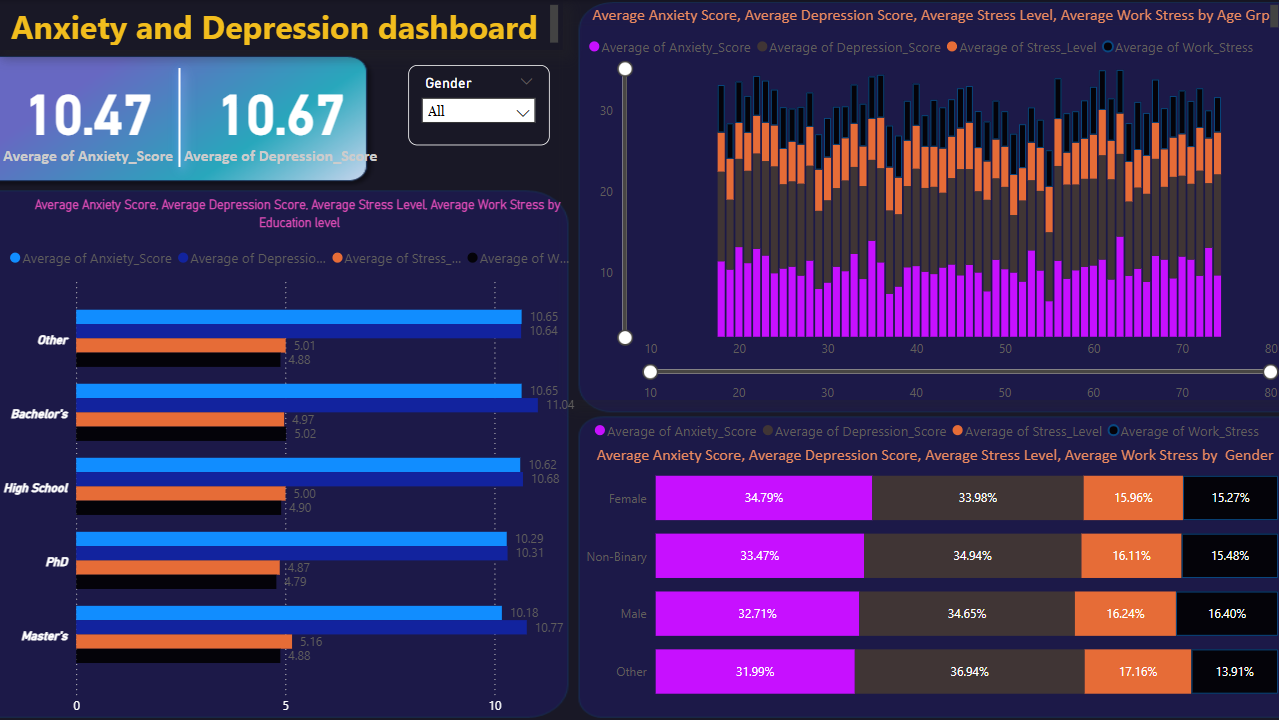

What the dashboard file says about the page in this screenshot:
{"tool":"powerbi","page":{"name":"Page 1","canvas":[1280,720],"ordinal":0},"visuals":[{"type":"lineStackedColumnComboChart","fields":{"Y":["Avg(anxiety_depression_data.Anxiety_Score)","Avg(anxiety_depression_data.Depression_Score)","Avg(anxiety_depression_data.Stress_Level)","Avg(anxiety_depression_data.Work_Stress)"],"Category":["anxiety_depression_data.Age"]},"box":[563.5,26.1,716.5,371.9],"z":0},{"type":"hundredPercentStackedBarChart","fields":{"Category":["anxiety_depression_data.Gender"],"Y":["Avg(anxiety_depression_data.Anxiety_Score)","Avg(anxiety_depression_data.Depression_Score)","Avg(anxiety_depression_data.Stress_Level)","Avg(anxiety_depression_data.Work_Stress)"]},"box":[574.7,408,705.3,312.2],"z":1000},{"type":"clusteredBarChart","fields":{"Category":["anxiety_depression_data.Education_Level"],"Y":["Avg(anxiety_depression_data.Anxiety_Score)","Avg(anxiety_depression_data.Depression_Score)","Avg(anxiety_depression_data.Stress_Level)","Avg(anxiety_depression_data.Work_Stress)"]},"box":[0,236.4,587.1,483.9],"z":2000},{"type":"card","fields":{"Values":["Avg(anxiety_depression_data.Anxiety_Score)"]},"box":[0,53.5,181.6,126.9],"z":3000},{"type":"card","fields":{"Values":["Avg(anxiety_depression_data.Depression_Score)"]},"box":[172.9,53.5,218.9,126.9],"z":4000},{"type":"slicer","fields":{"Values":["anxiety_depression_data.Gender"]},"box":[409.3,64.7,140.6,79.6],"z":5000},{"type":"textbox","box":[0,0,563.5,49.8],"z":6000},{"type":"textbox","box":[587.1,0,692.9,38.6],"z":7000},{"type":"textbox","box":[27.4,189.1,547.3,47.3],"z":8000},{"type":"textbox","box":[587.1,437.9,692.9,32.3],"z":9000},{"type":"shape","box":[95.8,53.5,171.7,126.9],"z":10000}]}

Visuals, with their boxes in screenshot pixels (x1, y1, x2, y2), scaled from the page's 1280x720 canvas onto the 1279x720 screenshot:
lineStackedColumnComboChart - Avg(anxiety_depression_data.Anxiety_Score) x Avg(anxiety_depression_data.Depression_Score): {"x1": 563, "y1": 26, "x2": 1278, "y2": 398}
hundredPercentStackedBarChart - anxiety_depression_data.Gender x Avg(anxiety_depression_data.Anxiety_Score): {"x1": 574, "y1": 408, "x2": 1278, "y2": 719}
clusteredBarChart - anxiety_depression_data.Education_Level x Avg(anxiety_depression_data.Anxiety_Score): {"x1": 0, "y1": 236, "x2": 587, "y2": 719}
card - Avg(anxiety_depression_data.Anxiety_Score): {"x1": 0, "y1": 54, "x2": 181, "y2": 180}
card - Avg(anxiety_depression_data.Depression_Score): {"x1": 173, "y1": 54, "x2": 391, "y2": 180}
slicer - anxiety_depression_data.Gender: {"x1": 409, "y1": 65, "x2": 549, "y2": 144}
textbox: {"x1": 0, "y1": 0, "x2": 563, "y2": 50}
textbox: {"x1": 587, "y1": 0, "x2": 1278, "y2": 39}
textbox: {"x1": 27, "y1": 189, "x2": 574, "y2": 236}
textbox: {"x1": 587, "y1": 438, "x2": 1278, "y2": 470}
shape: {"x1": 96, "y1": 54, "x2": 267, "y2": 180}
